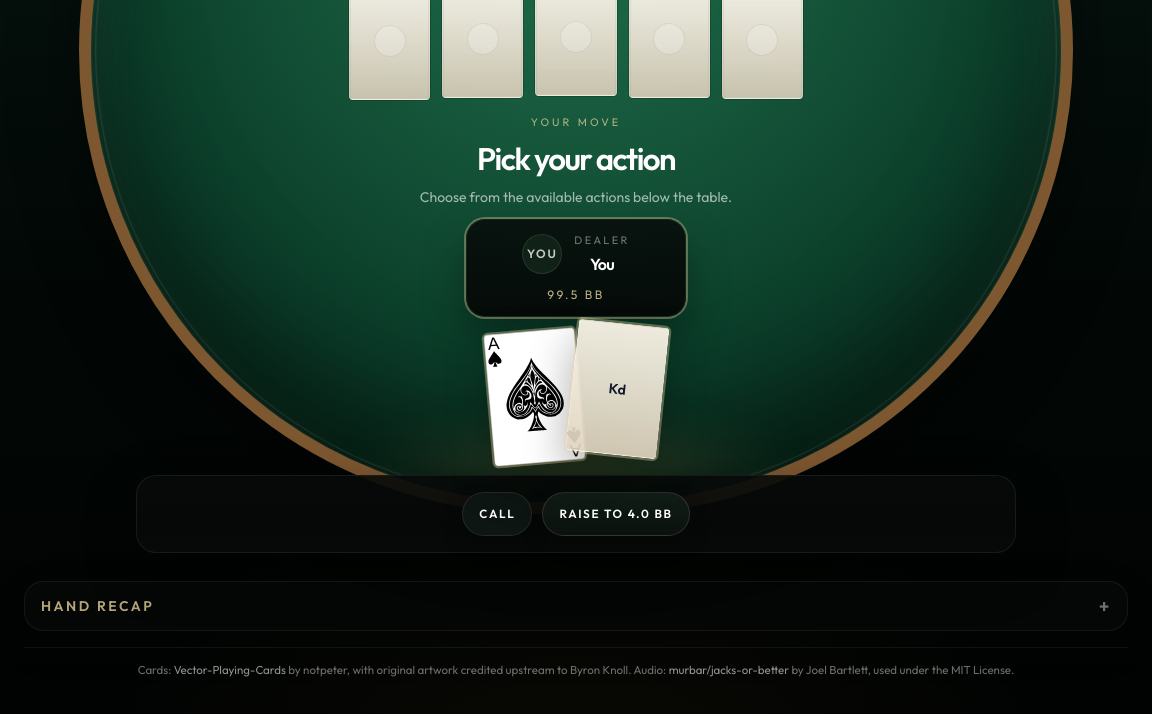
App › tracks completed bot match wins as player losses
(page scrolled)
Click the button "Call": click(497, 514) [462,492,532,536]
(page scrolled)
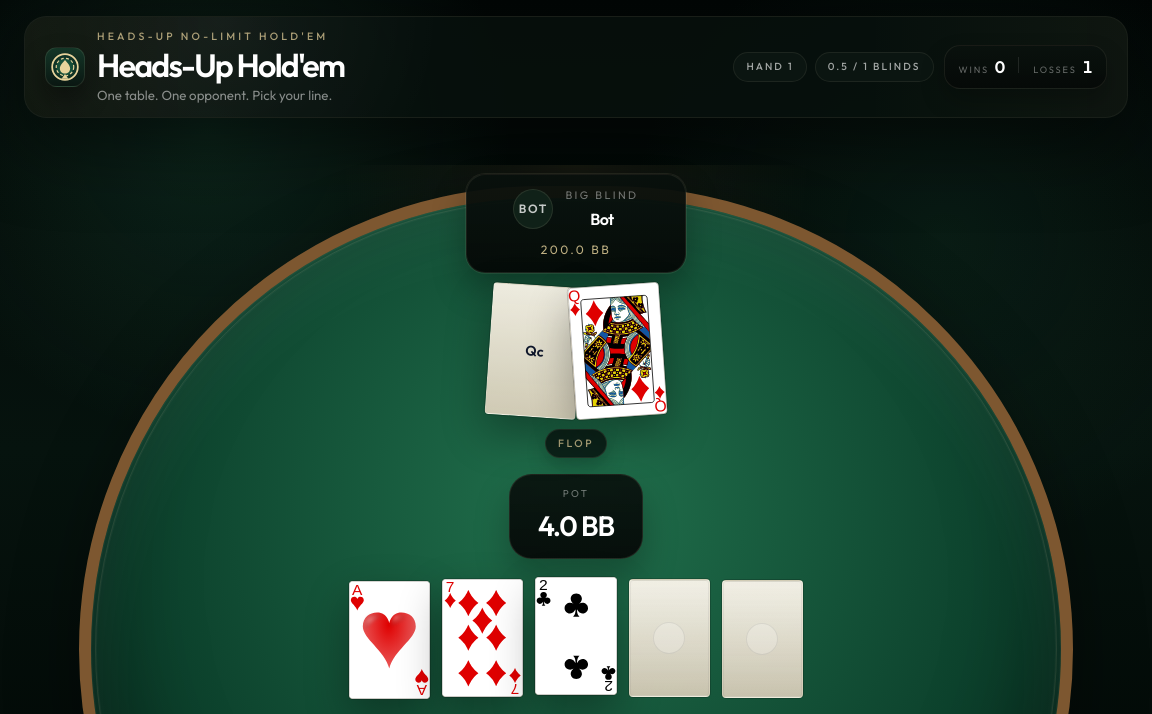
Expected: the element named "Match record" shows "Losses", [1033,64,1077,76]
Expected: the element named "Match record" shows "1", [1083,56,1092,78]
